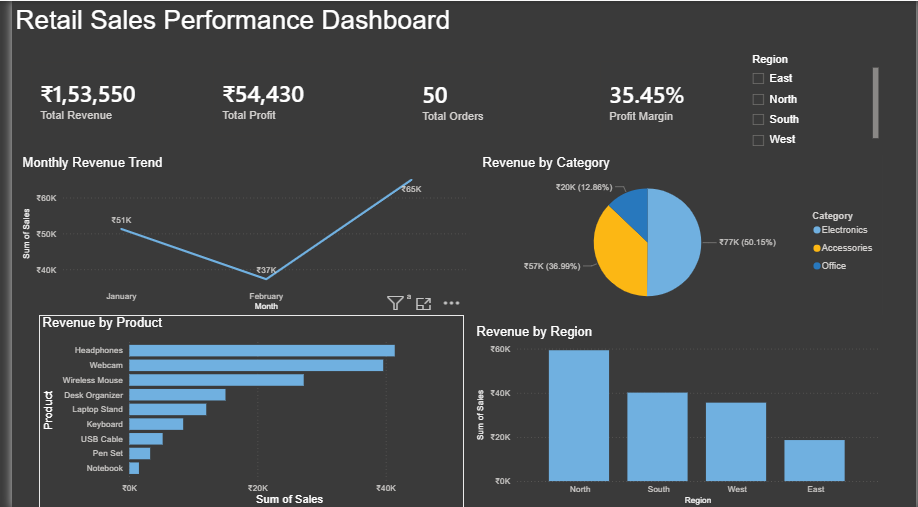

The page's visual inventory and layout, read from the dashboard file:
{"tool":"powerbi","page":{"name":"Page 1","canvas":[1280,720],"ordinal":0},"visuals":[{"type":"cardVisual","fields":{"Data":["retail_sales_project sales.Total Revenue"]},"box":[10,70,210,138.3],"z":0},{"type":"cardVisual","fields":{"Data":["retail_sales_project sales.Total Profit"]},"box":[268.3,68.3,196.7,140],"z":1000},{"type":"cardVisual","fields":{"Data":["retail_sales_project sales.Total Orders"]},"box":[551.7,70,156.7,141.7],"z":2000},{"type":"cardVisual","fields":{"Data":["retail_sales_project sales.Profit Margin"]},"box":[816.7,68.3,168.3,143.3],"z":3000},{"type":"lineChart","title":"Monthly Revenue Trend","fields":{"Y":["Sum(retail_sales_project sales.Sales)"],"Category":["retail_sales_project sales.Month_Start.Variation.Date Hierarchy.Month"]},"box":[10,218.3,643.3,226.7],"z":4000},{"type":"pieChart","title":"Revenue by Category","fields":{"Category":["retail_sales_project sales.Category"],"Y":["Sum(retail_sales_project sales.Sales)"]},"box":[661.7,218.3,571.7,226.7],"z":5000},{"type":"clusteredColumnChart","title":"Revenue by Region","fields":{"Category":["retail_sales_project sales.Region"],"Y":["Sum(retail_sales_project sales.Sales)"]},"box":[653.3,458.3,580,261.7],"z":6000},{"type":"clusteredBarChart","title":"Revenue by Product","fields":{"Category":["retail_sales_project sales.Product"],"Y":["Sum(retail_sales_project sales.Sales)"]},"box":[38.3,445,602.4,275],"z":7000},{"type":"slicer","fields":{"Values":["retail_sales_project sales.Region"]},"box":[1036.7,70,196.7,141.7],"z":8000},{"type":"textbox","box":[0,0,1258.3,61.7],"z":8001}]}

Visuals, with their boxes in screenshot pixels (x1, y1, x2, y2), scaled from the page's 1280x720 canvas onto the 918x507 screenshot:
cardVisual - retail_sales_project sales.Total Revenue: BBox(7, 49, 158, 147)
cardVisual - retail_sales_project sales.Total Profit: BBox(192, 48, 333, 147)
cardVisual - retail_sales_project sales.Total Orders: BBox(396, 49, 508, 149)
cardVisual - retail_sales_project sales.Profit Margin: BBox(586, 48, 706, 149)
"Monthly Revenue Trend" lineChart: BBox(7, 154, 469, 313)
"Revenue by Category" pieChart: BBox(475, 154, 885, 313)
"Revenue by Region" clusteredColumnChart: BBox(469, 323, 885, 506)
"Revenue by Product" clusteredBarChart: BBox(27, 313, 460, 506)
slicer - retail_sales_project sales.Region: BBox(744, 49, 885, 149)
textbox: BBox(0, 0, 902, 43)
